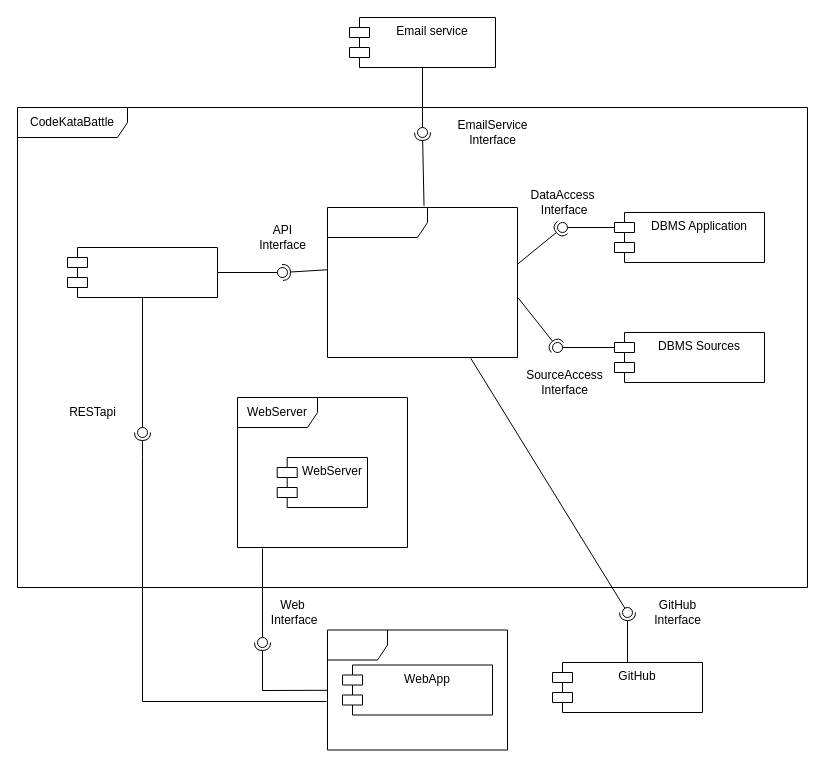
Some shapes in this 825 by 768 pixel diagram are drawn without their labels. Each missing label, with the box of its shape:
API Gateway: (66, 246, 218, 298)
Client: (326, 629, 508, 750)
MicroServices: (326, 206, 518, 358)
